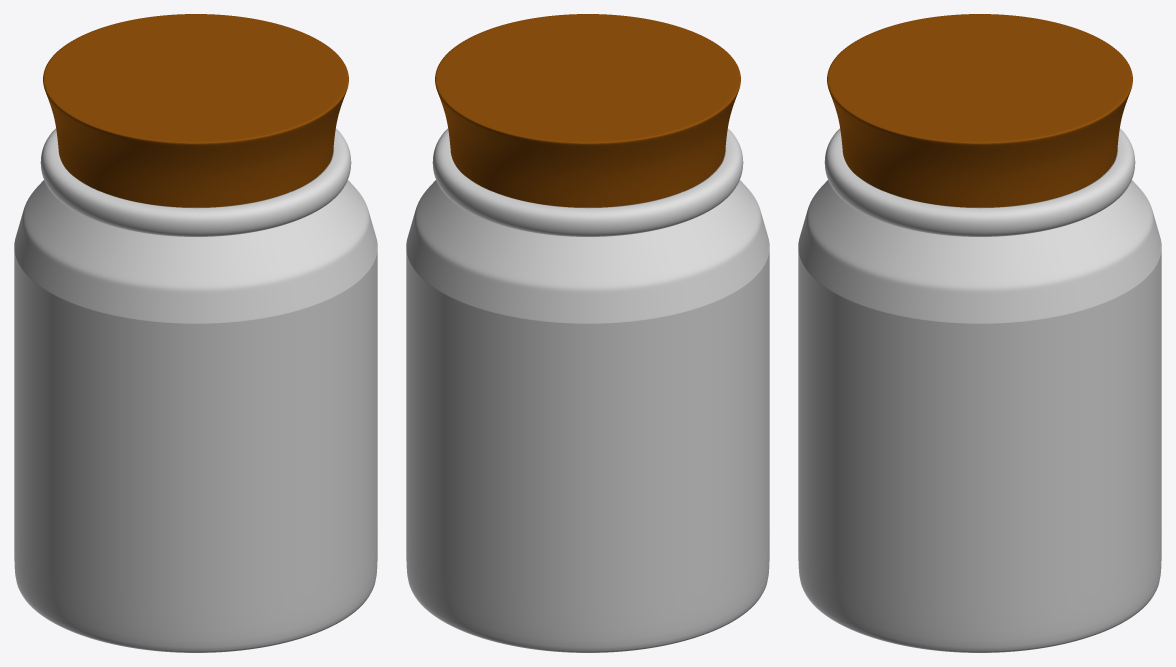
The model's file is Frasco.fbx.
3 renders of one model, left to right at view 1: azimuth 30°, elevation 25°; view 2: azimuth 150°, elevation 25°; view 3: azimuth 270°, elevation 25°, orthographic.
Parts seen in each view (by area): view 1: Cilindro, Cilindro.001; view 2: Cilindro, Cilindro.001; view 3: Cilindro, Cilindro.001.
Boxes of the visible parts, bbox=[...] form: Cilindro: bbox=[14, 128, 377, 652]; Cilindro.001: bbox=[43, 14, 348, 207]; Cilindro: bbox=[406, 128, 769, 652]; Cilindro.001: bbox=[435, 14, 740, 207]; Cilindro: bbox=[798, 128, 1161, 652]; Cilindro.001: bbox=[827, 14, 1132, 207].
Size of the model in its own units: 412 by 626 by 412.
